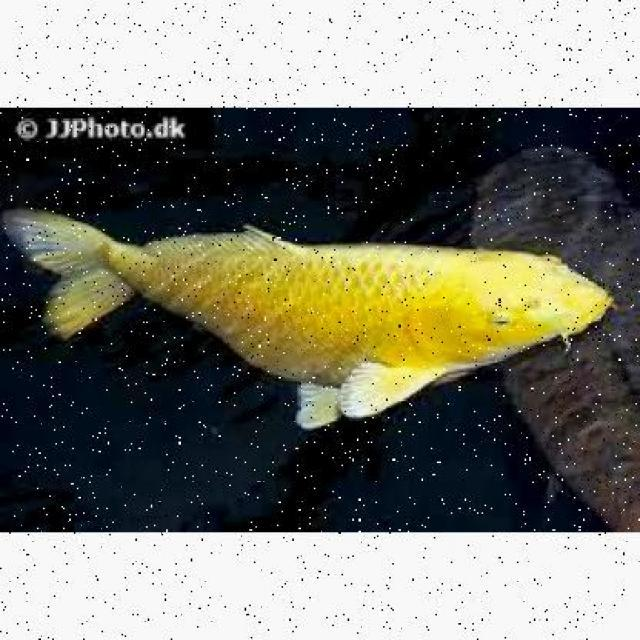ikan-mas: (16, 197, 618, 416)
